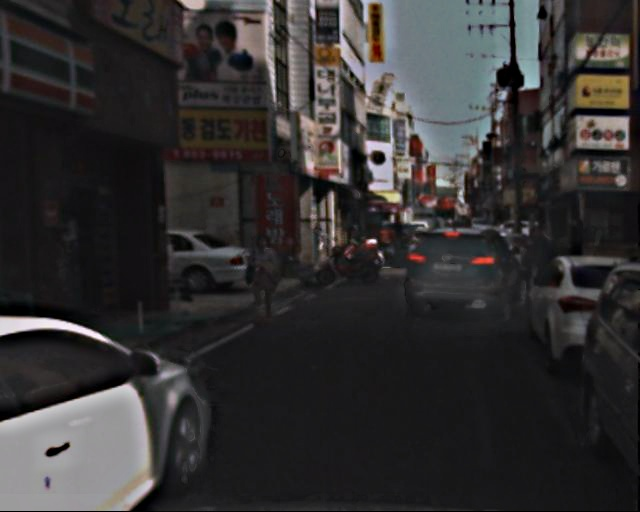person: (243, 235, 283, 332), (528, 228, 560, 306)
